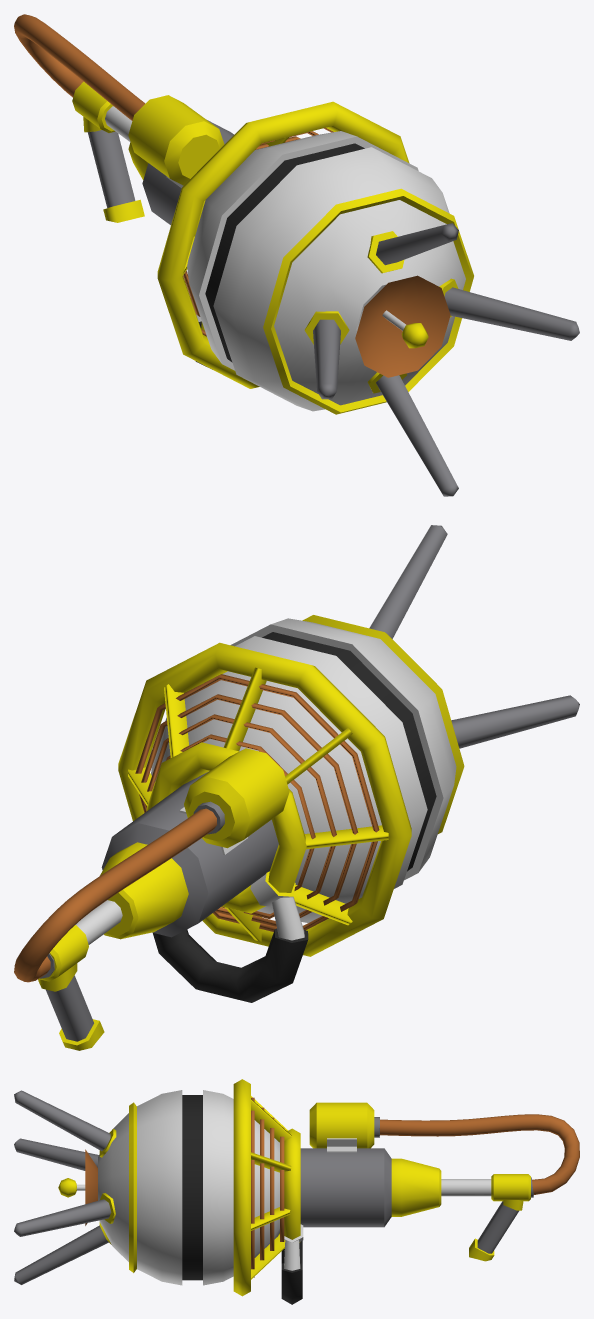
Rendered from ElectroGun.fbx.
3 views of the same model, one above another, from view 1: azimuth 30°, elevation 25°; view 2: azimuth 150°, elevation 25°; view 3: azimuth 270°, elevation 25° (orthographic). The views are drawn at different scales.
Parts seen in each view (by area): view 1: BeehiveGun; view 2: BeehiveGun; view 3: BeehiveGun.
Part boxes in pixels (<box>): BeehiveGun: <box>14,14,579,496</box>; BeehiveGun: <box>14,525,579,1050</box>; BeehiveGun: <box>14,1079,579,1304</box>.
Bounding box in the file's own units: 2.2 × 2.27 × 5.69.
